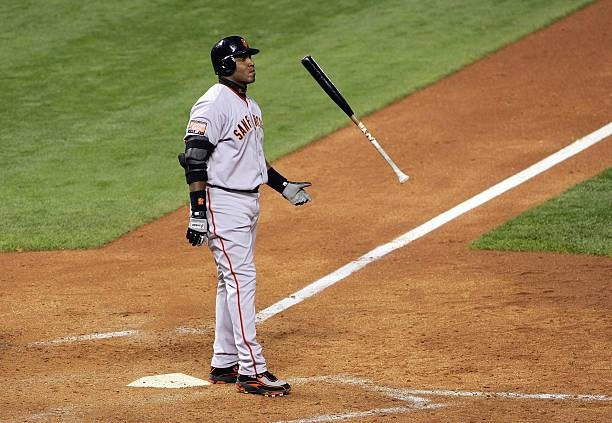bita: (300, 54, 406, 183)
